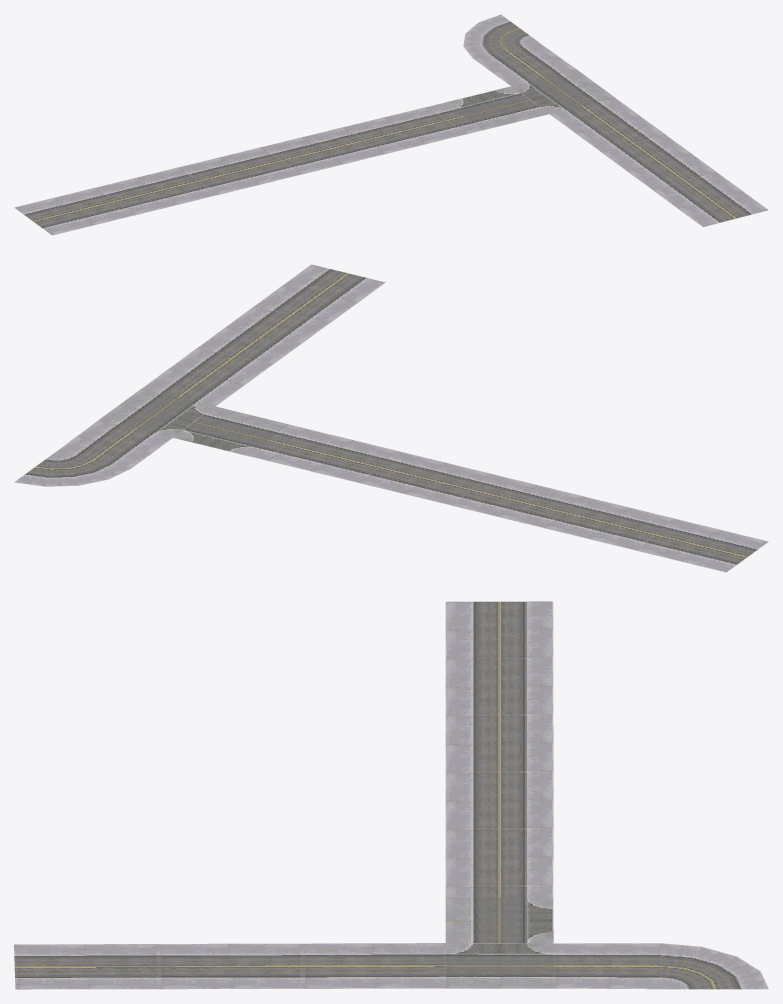
The model's file is lodaseroad032.obj.
The picture shows the model from 3 angles, top to bottom: view 1: azimuth 30°, elevation 25°; view 2: azimuth 150°, elevation 25°; view 3: azimuth 270°, elevation 25°; orthographic projection. The views are drawn at different scales.
Visible parts, largest first — view 1: lodasEroad032; view 2: lodasEroad032; view 3: lodasEroad032.
Part boxes in pixels (x1,y1,x2,y2): lodasEroad032: (14,14,768,235); lodasEroad032: (14,264,768,572); lodasEroad032: (14,601,768,989).
Size of the model in its own units: 170 by 0.2567 by 140.
Materials: 2 (2 with a texture image).
